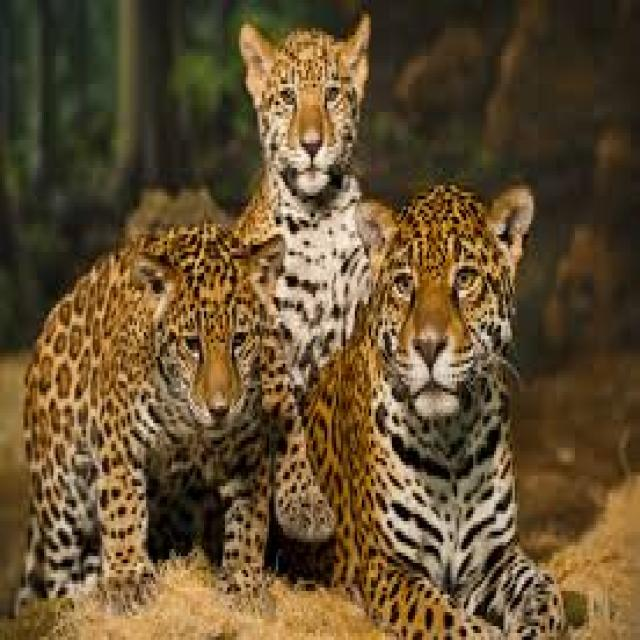Jaguar: (322, 115, 548, 605), (65, 210, 264, 577), (232, 11, 371, 353)
